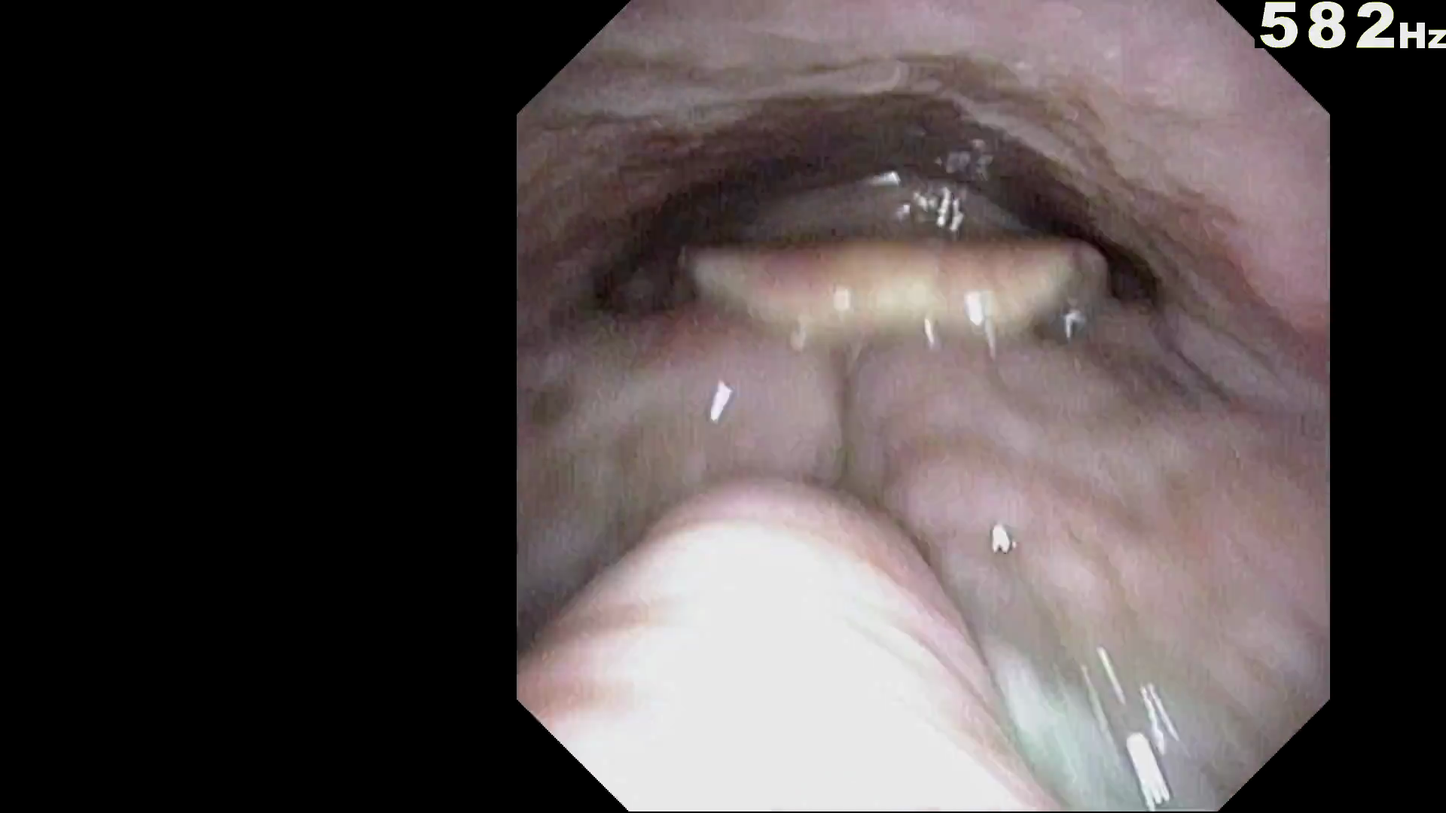epiglottis: (658, 292, 1162, 480)
trachea: (880, 330, 991, 453)
